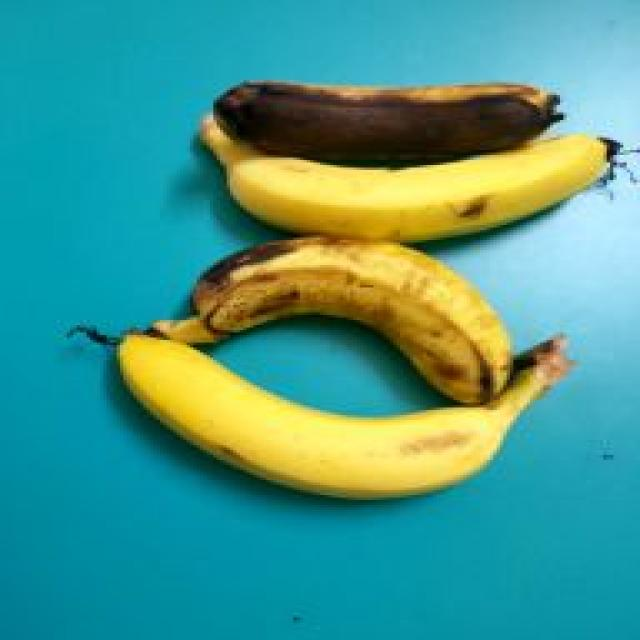Organik: (83, 325, 577, 525), (169, 115, 625, 241), (185, 241, 523, 400), (215, 64, 567, 166)
